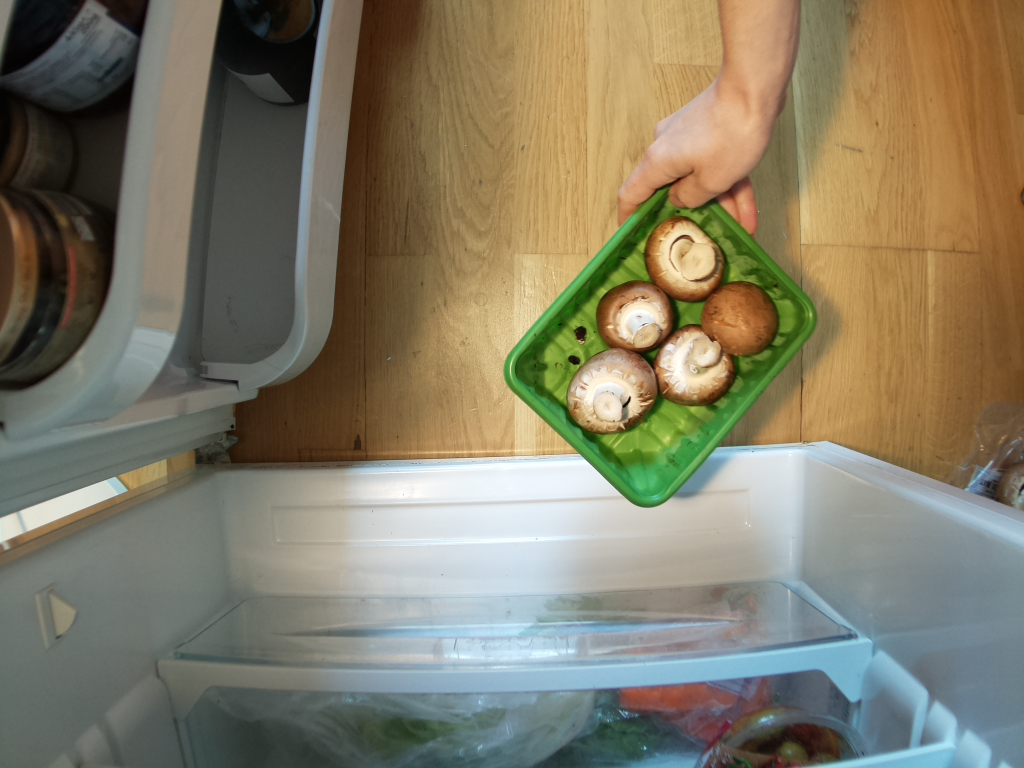mushrooms: (511, 181, 822, 504)
